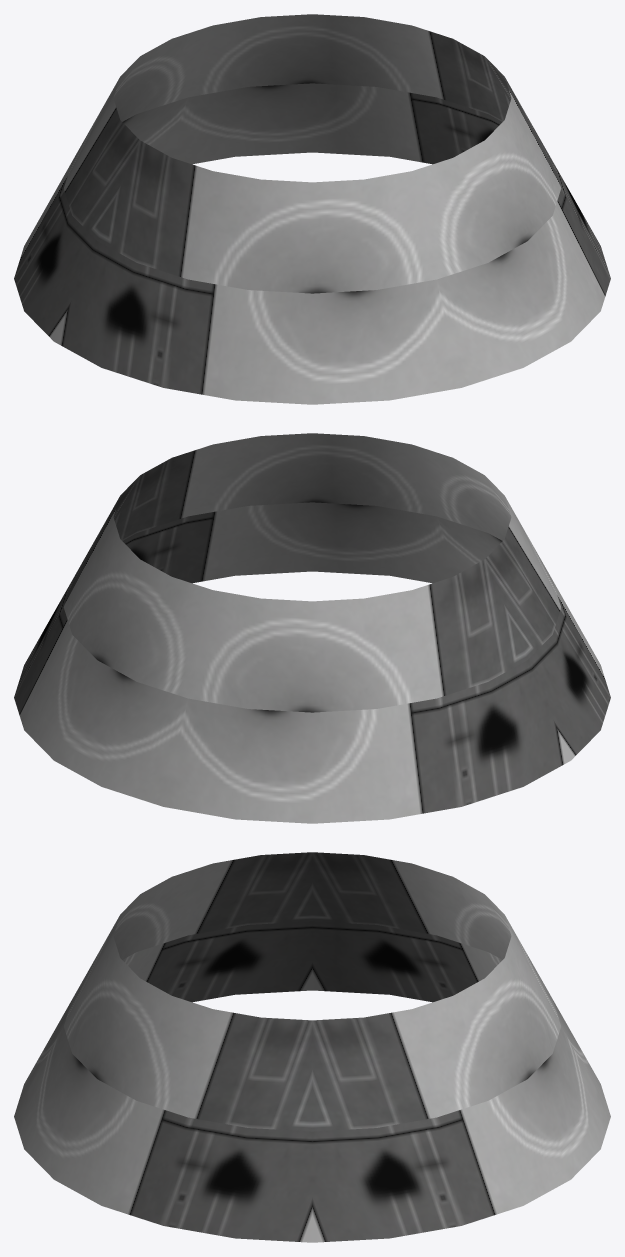
Rendered from small_adapter.fbx.
The picture shows the model from 3 angles, top to bottom: view 1: azimuth 30°, elevation 25°; view 2: azimuth 150°, elevation 25°; view 3: azimuth 270°, elevation 25°; orthographic projection.
Visible parts, largest first — view 1: mesh; view 2: mesh; view 3: mesh.
Boxes of the visible parts, box(x1,y1,x2,y2) form: mesh: box(14, 14, 610, 404); mesh: box(14, 433, 610, 823); mesh: box(14, 852, 610, 1242).
Size of the model in its own units: 0.9375 by 0.3125 by 0.9375.
